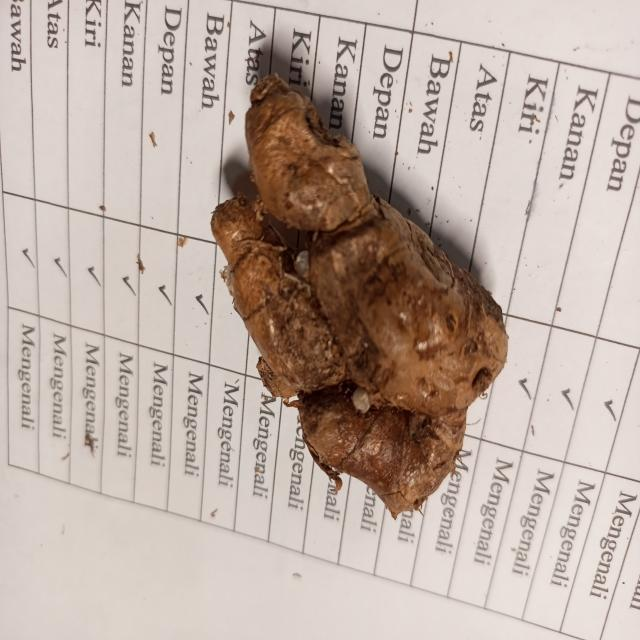ginger: (217, 90, 492, 504)
